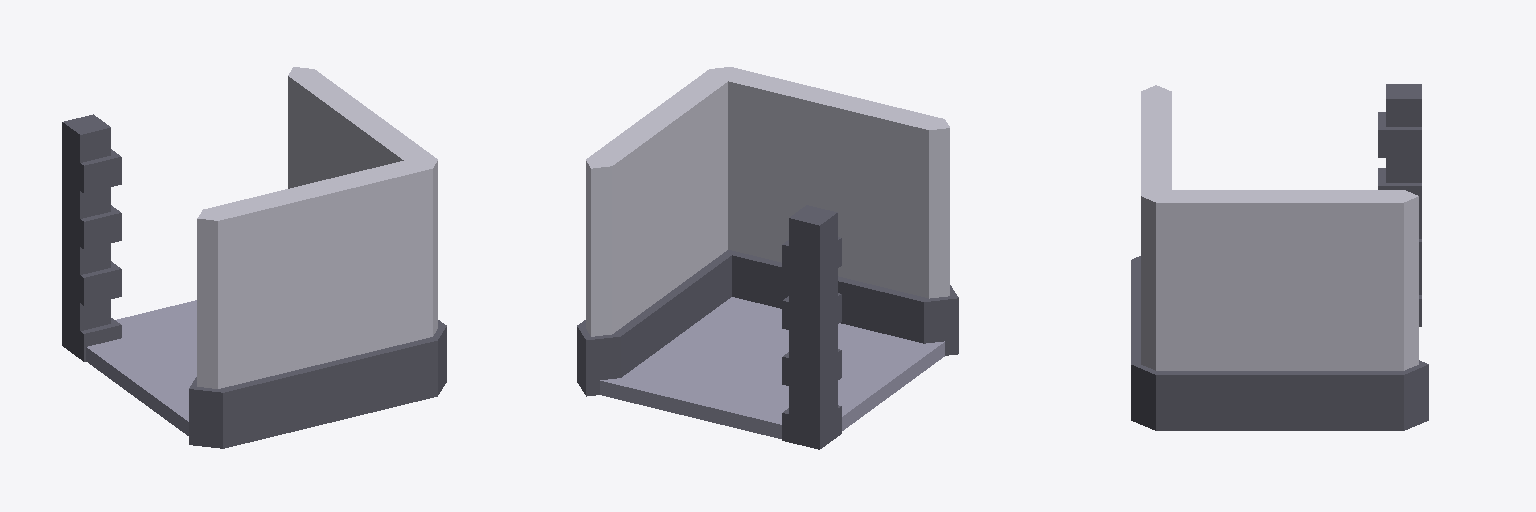
Rendered from sm_corner_03.obj.
The picture shows the model from 3 angles: view 1: azimuth 30°, elevation 25°; view 2: azimuth 150°, elevation 25°; view 3: azimuth 270°, elevation 25°; orthographic projection.
Visible parts, largest first — view 1: corner_01_162, wall_borderBricks_159, floor_square_163; view 2: corner_01_162, floor_square_163, wall_borderBricks_159; view 3: corner_01_162, wall_borderBricks_159.
Boxes of the visible parts, box(x1,y1,x2,y2) form: corner_01_162: box(189, 67, 446, 448); wall_borderBricks_159: box(62, 114, 121, 361); floor_square_163: box(86, 300, 196, 435); corner_01_162: box(577, 67, 958, 396); floor_square_163: box(600, 297, 944, 438); wall_borderBricks_159: box(782, 205, 841, 449); corner_01_162: box(1131, 85, 1428, 430); wall_borderBricks_159: box(1378, 84, 1421, 326).
Bounding box in the file's own units: 1.21 × 1 × 1.21.